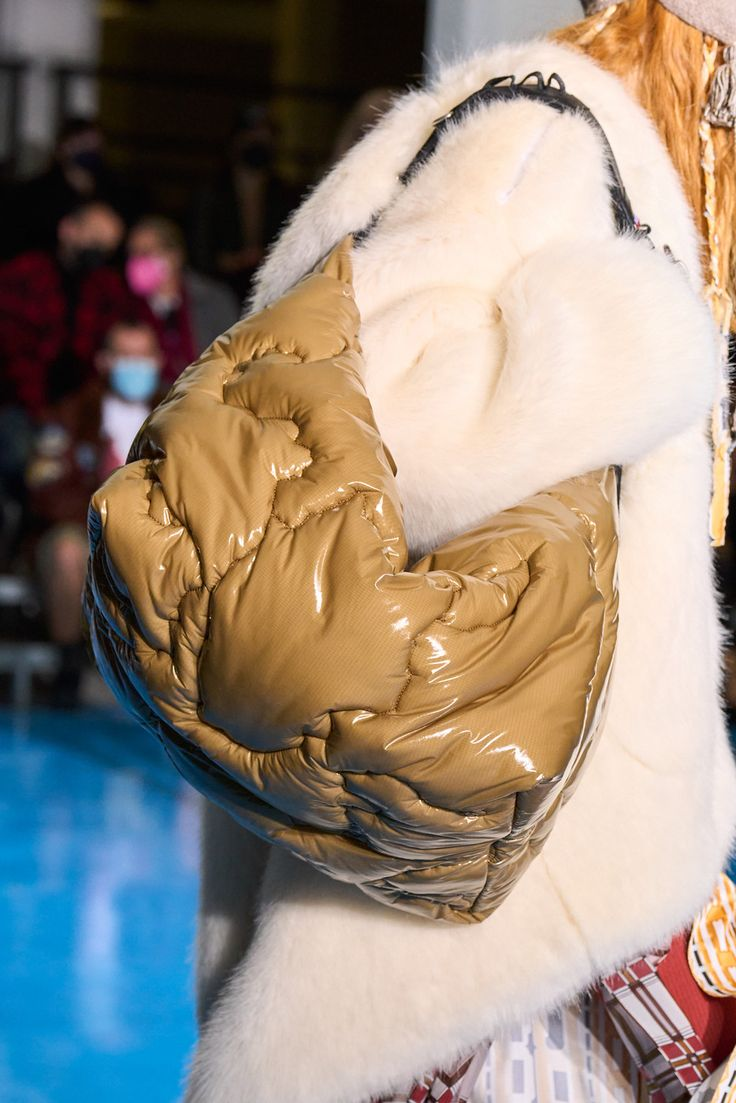nylon: (82, 239, 620, 928)
